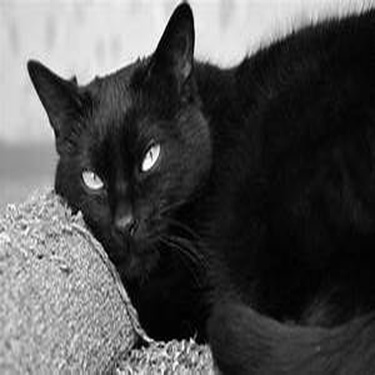cat: (25, 4, 374, 368)
